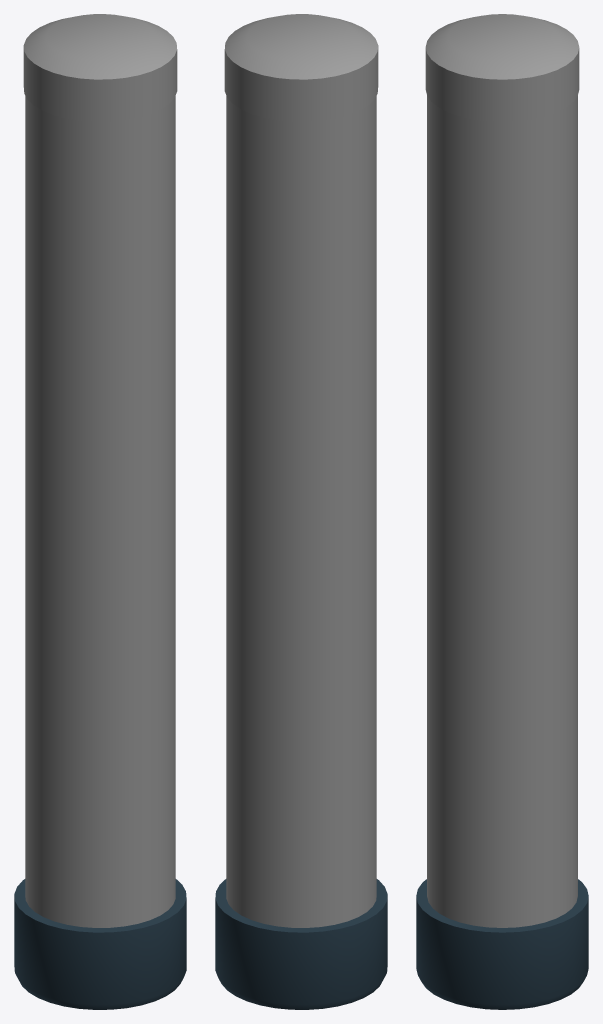
The model's file is cup wall dispenser.fbx.
3 views of the same model, side by side, from view 1: azimuth 30°, elevation 25°; view 2: azimuth 150°, elevation 25°; view 3: azimuth 270°, elevation 25° (orthographic).
Parts seen in each view (by area): view 1: Cylinder; view 2: Cylinder; view 3: Cylinder.
Boxes of the visible parts, <box> form: Cylinder: <box>14,14,186,1009</box>; Cylinder: <box>215,14,387,1009</box>; Cylinder: <box>416,14,588,1009</box>.
Bounding box in the file's own units: 122 × 731 × 122.
